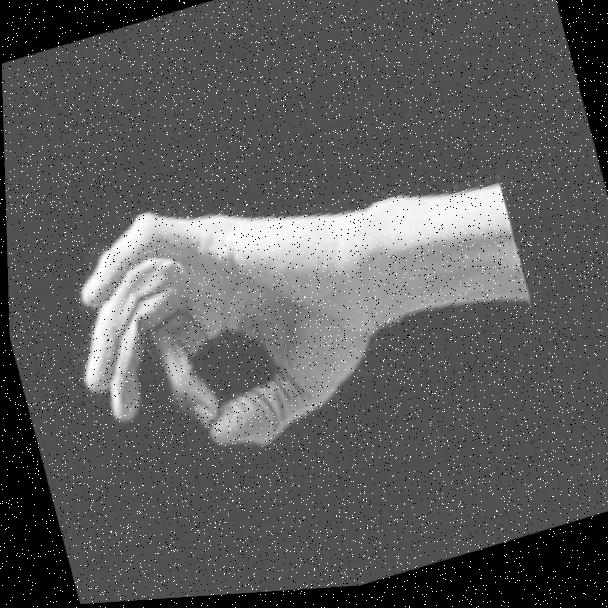five: (32, 146, 407, 501)
